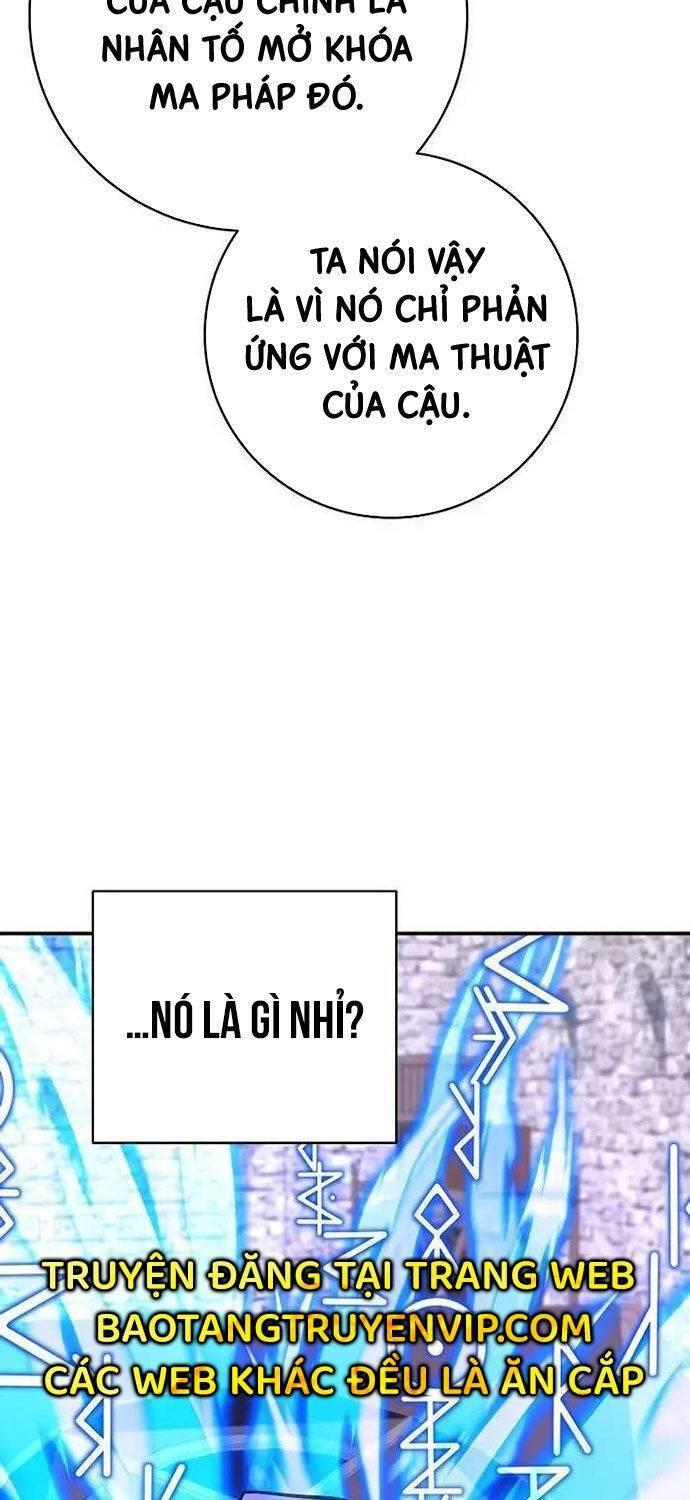quangcao: (38, 1252, 646, 1400)
